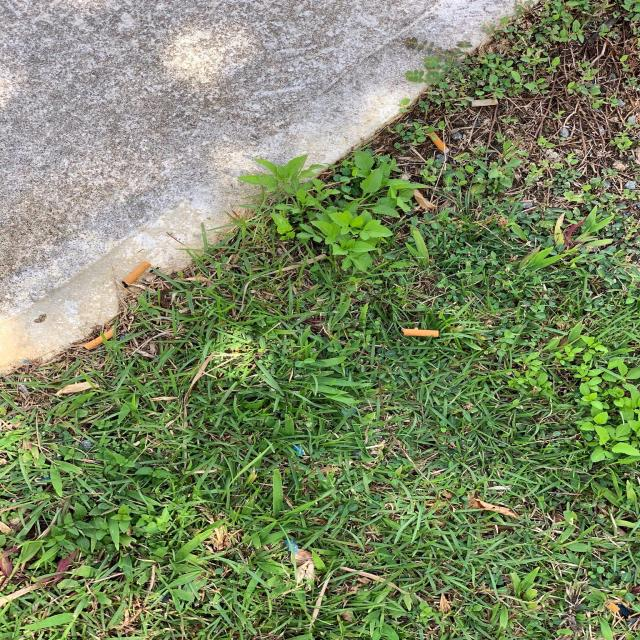litter: (120, 260, 151, 286), (82, 327, 118, 349), (424, 129, 451, 154), (403, 328, 438, 336), (470, 98, 500, 107)
